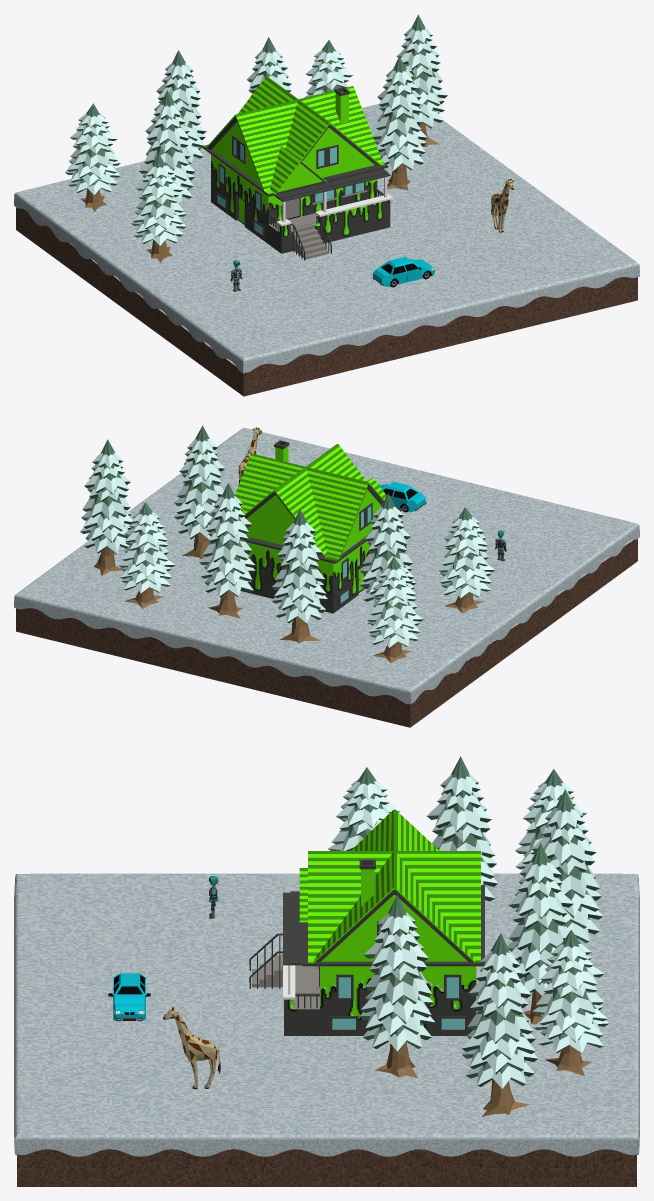
3 renders of one model, top to bottom at view 1: azimuth 30°, elevation 25°; view 2: azimuth 150°, elevation 25°; view 3: azimuth 270°, elevation 25°, orthographic. The views are drawn at different scales.
Parts seen in each view (by area): view 1: Cube.003, Cube.754, VEHICLES_CAR, ANIMAL_JIRAFA; view 2: Cube.003, Cube.754, VEHICLES_CAR; view 3: Cube.003, Cube.754, VEHICLES_CAR, ANIMAL_JIRAFA.
Part boxes in pixels (left/top/right/bottom): Cube.003: left=14, top=14, right=639, bottom=396; Cube.754: left=202, top=76, right=393, bottom=260; VEHICLES_CAR: left=372, top=256, right=434, bottom=287; ANIMAL_JIRAFA: left=491, top=179, right=514, bottom=232; Cube.003: left=14, top=425, right=639, bottom=727; Cube.754: left=235, top=440, right=406, bottom=613; VEHICLES_CAR: left=378, top=481, right=426, bottom=512; Cube.003: left=14, top=756, right=639, bottom=1186; Cube.754: left=249, top=809, right=484, bottom=1035; VEHICLES_CAR: left=108, top=973, right=150, bottom=1021; ANIMAL_JIRAFA: left=163, top=1007, right=220, bottom=1089.
Size of the model in its own units: 4040 by 1715 by 4040.
Materials: 37 (5 with a texture image).
